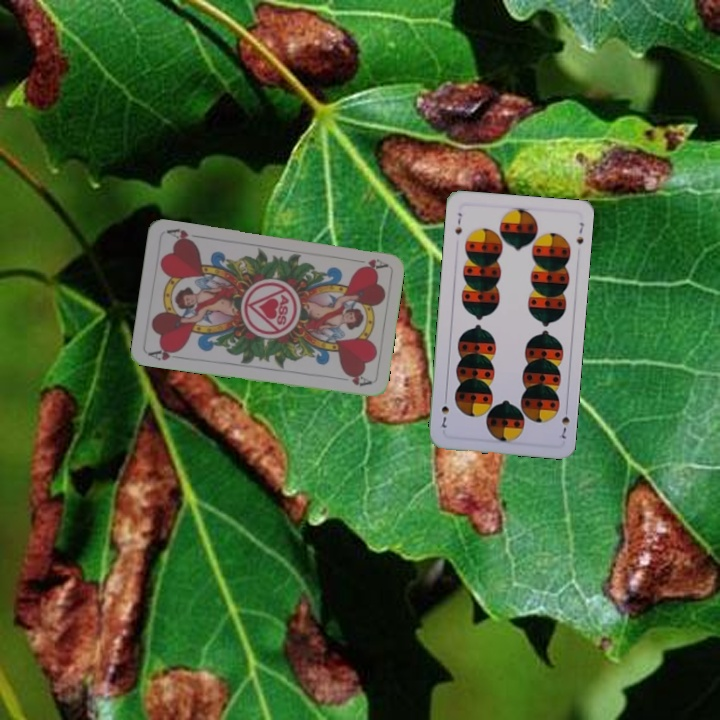HA: (145, 344, 185, 363), (349, 255, 389, 272)
S7: (557, 403, 572, 441), (451, 209, 464, 237)
